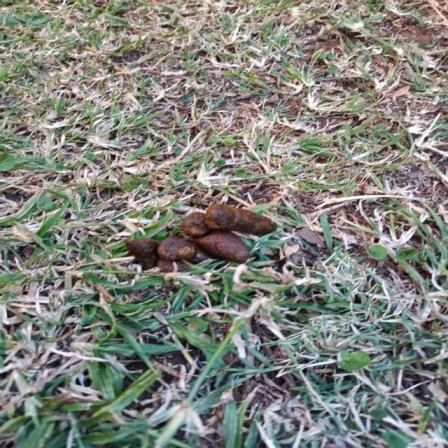dog-poop: (124, 198, 281, 270)
